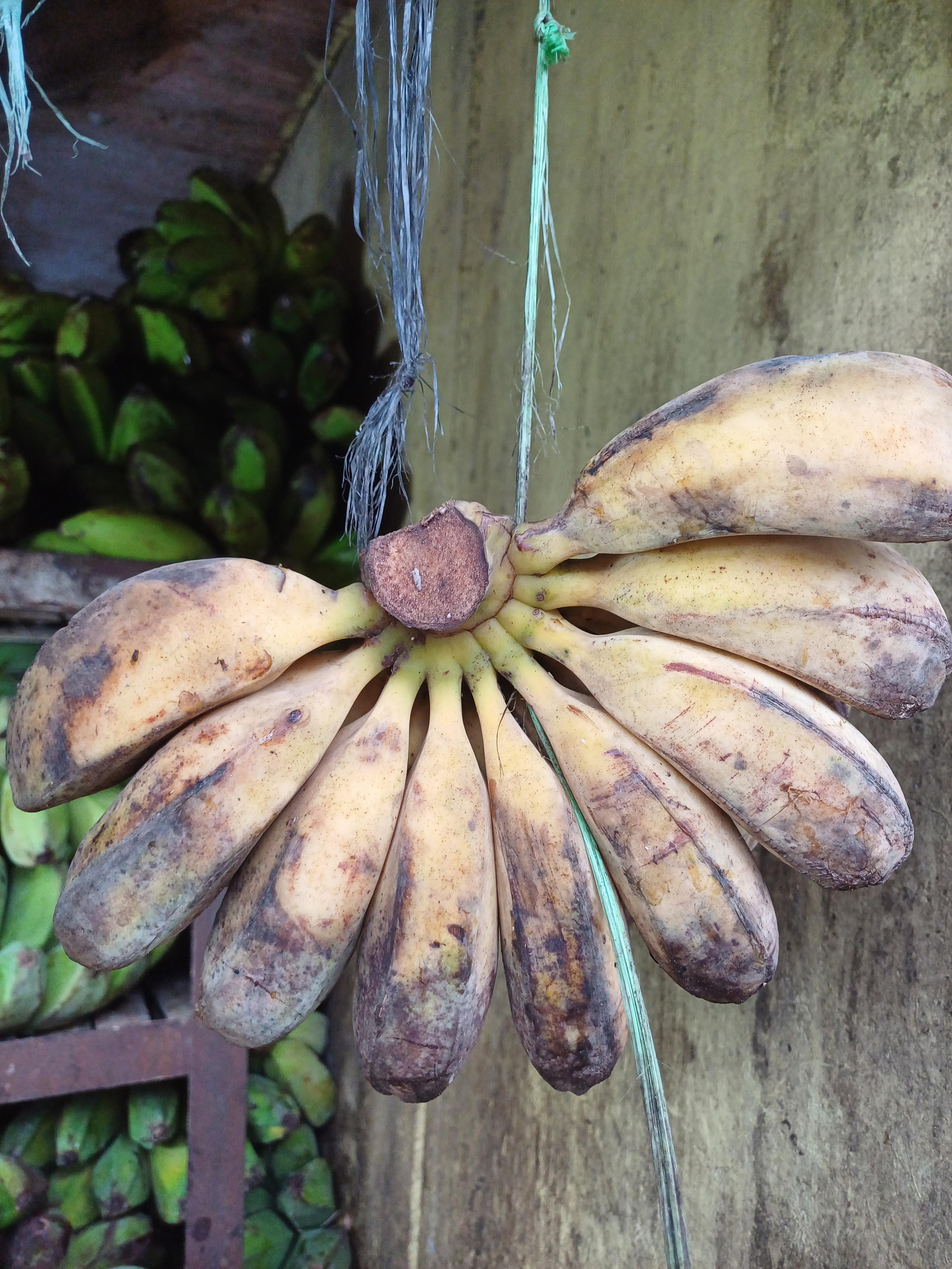ripe: (5, 346, 952, 1101)
